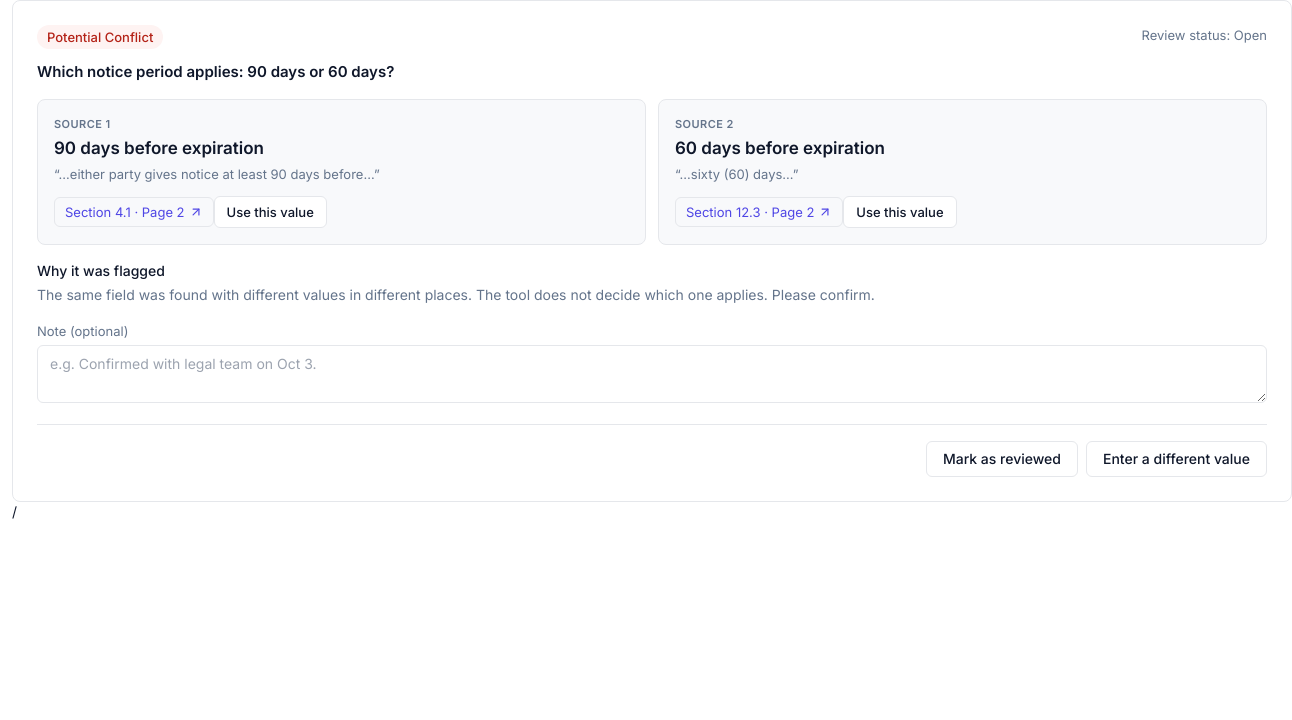
Test: ClarificationCard (conflict) › shows the server's message inline when resolving fails, and stays open
Click the button "Mark as reviewed".
click(1002, 459)  # box [926,441,1078,477]
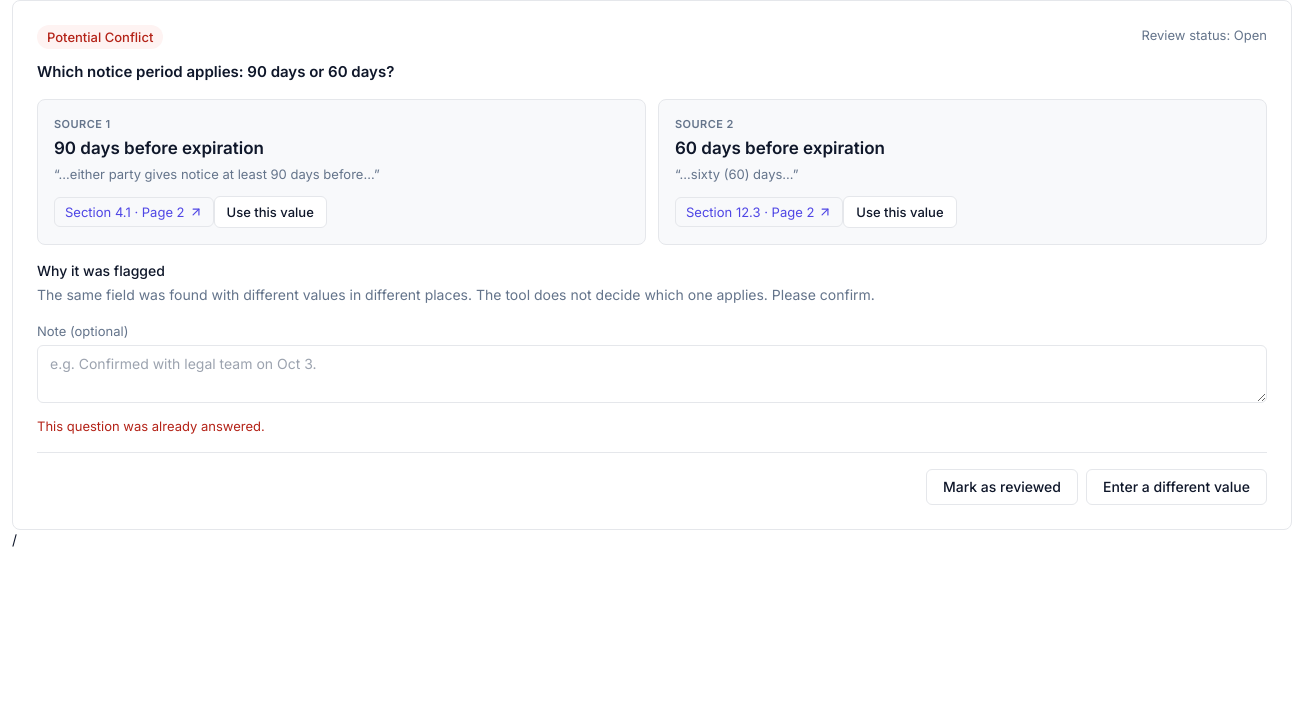
Expected: the number of buttons "Use this value" is 2, [214,196,327,228]; [843,196,956,228]
Result: the text "This question was already answered." is shown at [37,418,265,434]
